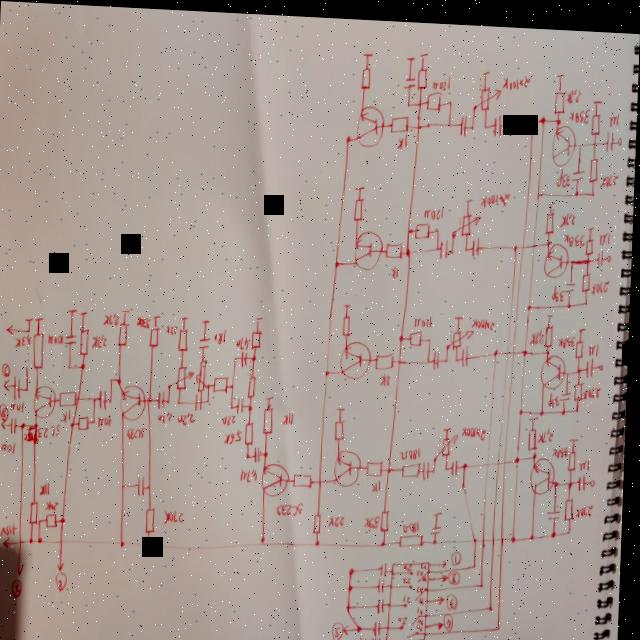capacitor: (14, 375, 25, 400), (604, 123, 615, 147), (100, 388, 111, 410), (462, 341, 472, 364), (494, 109, 503, 133), (441, 233, 450, 256), (434, 344, 443, 366), (550, 502, 564, 516), (140, 473, 148, 497), (460, 110, 468, 133), (201, 334, 214, 348), (11, 416, 21, 434), (473, 232, 482, 252), (159, 388, 168, 408), (587, 351, 595, 373), (598, 242, 606, 264), (197, 388, 205, 410), (404, 72, 416, 86), (67, 332, 79, 346), (425, 456, 433, 476), (239, 393, 247, 413), (562, 384, 575, 396), (574, 163, 586, 176), (242, 348, 251, 365), (581, 466, 589, 485), (567, 273, 577, 288), (380, 593, 388, 611), (256, 442, 263, 462), (453, 454, 460, 473), (433, 518, 445, 529), (377, 617, 386, 631), (382, 572, 389, 590), (383, 560, 392, 574)
crossover: (417, 96, 424, 104), (475, 530, 481, 539), (493, 530, 499, 539), (484, 531, 490, 539), (502, 529, 508, 537), (399, 353, 405, 361), (498, 454, 503, 462), (488, 454, 493, 462), (507, 343, 512, 351), (513, 343, 518, 351), (61, 538, 67, 544), (505, 453, 509, 461), (533, 236, 538, 242), (21, 538, 26, 544), (79, 395, 84, 401), (522, 238, 526, 244)
ground: (435, 504, 447, 513), (361, 47, 374, 55), (592, 92, 604, 100), (530, 409, 542, 417), (202, 316, 214, 324), (555, 65, 565, 74), (256, 312, 266, 321), (480, 64, 491, 72), (418, 47, 429, 55), (570, 430, 582, 437), (267, 391, 277, 399), (181, 312, 191, 320), (154, 311, 164, 319), (455, 309, 466, 316), (355, 181, 366, 188), (579, 319, 588, 327), (121, 307, 133, 313), (445, 421, 455, 428), (70, 307, 80, 314), (37, 316, 47, 323), (405, 51, 416, 57), (465, 192, 474, 199), (27, 316, 36, 323), (81, 309, 91, 315), (344, 299, 354, 305), (339, 403, 349, 409), (548, 195, 557, 201), (548, 307, 556, 313), (588, 219, 596, 225)
junction: (351, 561, 359, 573), (523, 342, 532, 352), (359, 619, 367, 630), (516, 450, 524, 460), (334, 255, 342, 265), (264, 532, 270, 544), (345, 131, 352, 141), (351, 580, 358, 590), (547, 233, 554, 243), (471, 97, 478, 107), (266, 446, 272, 457), (250, 399, 256, 410), (513, 238, 520, 247), (123, 538, 130, 547), (401, 330, 407, 340), (327, 364, 333, 374), (407, 244, 413, 254), (557, 473, 563, 483), (541, 110, 547, 120), (571, 474, 577, 484), (349, 598, 355, 608), (452, 225, 458, 235), (82, 362, 89, 370), (495, 343, 502, 351), (149, 394, 156, 402), (534, 446, 541, 454), (64, 515, 70, 524), (563, 402, 569, 411), (554, 524, 560, 533), (591, 184, 597, 193), (483, 117, 489, 126), (577, 400, 583, 409), (416, 119, 422, 128), (385, 535, 391, 544), (318, 535, 324, 544), (465, 456, 471, 465), (436, 533, 442, 542), (492, 598, 498, 607), (530, 112, 536, 121), (254, 352, 260, 361), (231, 400, 237, 409), (23, 420, 29, 429), (556, 111, 562, 120), (533, 526, 538, 536), (94, 395, 101, 402), (514, 530, 520, 538), (585, 293, 591, 301), (69, 363, 75, 371), (568, 296, 574, 304), (575, 184, 581, 192), (119, 376, 125, 384), (570, 522, 576, 530), (537, 185, 543, 193), (541, 402, 547, 410), (578, 360, 584, 368), (235, 352, 241, 360), (40, 536, 46, 544), (33, 536, 38, 545), (529, 298, 534, 307), (408, 223, 413, 232), (169, 380, 174, 389), (390, 462, 395, 470), (124, 481, 129, 489), (500, 619, 505, 627), (321, 475, 326, 483), (27, 385, 32, 393), (436, 240, 441, 248), (521, 402, 526, 410), (179, 397, 184, 405), (470, 118, 475, 126), (448, 116, 452, 125), (149, 540, 155, 546), (592, 134, 598, 140), (36, 421, 41, 428), (233, 380, 237, 388), (579, 136, 583, 144), (209, 380, 213, 388), (74, 420, 78, 428), (169, 396, 173, 404), (571, 251, 575, 259), (436, 450, 440, 458), (434, 463, 439, 469), (465, 241, 470, 247), (406, 97, 411, 103), (111, 397, 116, 403), (41, 518, 46, 524), (150, 482, 155, 488), (547, 343, 552, 349), (587, 251, 592, 257), (484, 577, 488, 584), (449, 95, 453, 101), (476, 559, 480, 565), (447, 461, 451, 467), (452, 245, 456, 251), (437, 222, 441, 228), (428, 354, 432, 360), (430, 333, 434, 339), (446, 353, 450, 359), (457, 353, 461, 359), (209, 396, 213, 402), (112, 376, 116, 382), (95, 418, 99, 424), (568, 364, 572, 370), (249, 450, 253, 456), (448, 339, 452, 345)
resistor: (478, 81, 502, 109), (441, 428, 462, 459), (460, 206, 483, 234), (452, 322, 477, 347), (34, 329, 47, 370), (199, 356, 214, 391), (177, 363, 197, 389), (402, 527, 428, 545), (377, 348, 397, 368), (390, 110, 410, 130), (61, 388, 80, 407), (404, 457, 424, 475), (426, 86, 443, 107), (553, 83, 566, 110), (386, 237, 405, 255), (119, 320, 132, 346), (265, 404, 277, 432), (149, 504, 160, 534), (151, 323, 164, 348), (369, 456, 387, 474), (296, 470, 316, 486), (81, 327, 92, 356), (591, 104, 602, 131), (415, 218, 432, 235), (417, 63, 429, 87), (247, 417, 258, 443), (567, 491, 578, 517), (253, 326, 266, 348), (336, 415, 348, 438), (354, 193, 365, 218), (383, 505, 394, 530), (361, 62, 372, 87), (180, 326, 191, 351), (316, 508, 327, 532), (569, 442, 580, 466), (530, 422, 541, 446), (590, 151, 600, 177), (215, 374, 231, 390), (546, 205, 556, 229), (576, 333, 587, 354), (546, 319, 556, 342), (33, 500, 42, 525), (411, 326, 425, 342), (80, 413, 93, 430), (344, 311, 353, 334), (583, 267, 593, 287), (576, 377, 587, 395), (48, 513, 61, 528), (250, 372, 258, 396), (586, 231, 595, 250)
switch: (405, 598, 426, 621), (413, 579, 430, 597), (403, 619, 423, 634), (413, 564, 433, 577)
terminal: (19, 563, 29, 575), (7, 536, 15, 549), (8, 323, 16, 336), (441, 590, 449, 601), (347, 620, 354, 632), (6, 379, 13, 391), (445, 568, 453, 578), (441, 616, 449, 626), (61, 560, 69, 570), (3, 419, 9, 431), (618, 129, 624, 140), (445, 554, 451, 564), (593, 471, 599, 481), (608, 248, 614, 258), (601, 357, 606, 365)
text: (482, 185, 511, 205), (503, 69, 532, 88), (280, 498, 307, 515), (40, 421, 65, 439), (577, 496, 598, 515), (592, 272, 613, 291), (565, 226, 588, 243), (464, 420, 490, 435), (569, 102, 591, 119), (432, 69, 451, 88), (242, 464, 263, 481), (403, 440, 424, 457), (167, 507, 188, 524), (584, 379, 605, 396), (424, 200, 446, 216), (414, 310, 436, 325), (601, 167, 620, 184), (556, 162, 571, 182), (557, 205, 577, 220), (365, 509, 382, 526), (215, 325, 231, 343), (540, 421, 556, 439), (227, 427, 245, 443), (474, 313, 496, 326), (566, 81, 581, 100), (129, 424, 148, 439), (94, 332, 111, 348), (551, 278, 566, 296), (179, 409, 197, 424), (405, 515, 424, 529), (531, 324, 547, 340), (336, 618, 348, 639), (16, 577, 27, 599), (99, 413, 115, 428), (59, 572, 71, 592), (17, 333, 34, 347), (332, 511, 349, 525), (3, 441, 20, 455), (4, 524, 21, 538), (588, 334, 601, 352), (389, 257, 400, 278), (397, 128, 409, 147), (106, 312, 122, 326), (608, 105, 621, 122), (560, 330, 577, 343), (555, 440, 572, 453), (598, 225, 612, 240), (237, 334, 252, 348), (452, 566, 466, 581), (447, 608, 458, 627), (160, 409, 176, 422), (138, 315, 154, 328), (362, 632, 388, 640), (50, 332, 66, 345), (46, 498, 63, 510), (550, 386, 562, 403), (1, 404, 12, 422), (285, 407, 297, 423), (224, 412, 240, 424), (12, 400, 28, 412), (450, 590, 462, 606), (41, 481, 54, 495), (64, 407, 76, 422), (454, 546, 466, 561), (382, 368, 392, 384), (168, 321, 180, 334), (373, 476, 385, 487), (581, 453, 594, 463), (4, 363, 13, 377), (401, 611, 413, 621), (406, 589, 416, 600), (454, 567, 462, 579), (3, 406, 10, 418), (18, 580, 25, 592), (339, 622, 345, 634), (453, 593, 460, 603), (404, 572, 414, 579), (406, 559, 416, 566), (421, 613, 428, 622), (450, 613, 456, 623), (6, 364, 11, 376), (420, 619, 427, 627), (422, 591, 428, 600), (62, 577, 67, 587), (419, 565, 427, 571), (420, 580, 426, 588), (421, 602, 427, 610), (457, 550, 462, 559), (423, 559, 431, 564), (426, 570, 430, 576)
transistor: (341, 337, 375, 377), (356, 101, 385, 147), (355, 226, 385, 267), (335, 445, 364, 484), (553, 119, 577, 162), (264, 459, 293, 494), (122, 383, 149, 420), (546, 236, 571, 275), (542, 348, 568, 385), (35, 383, 59, 418), (532, 457, 555, 491)
